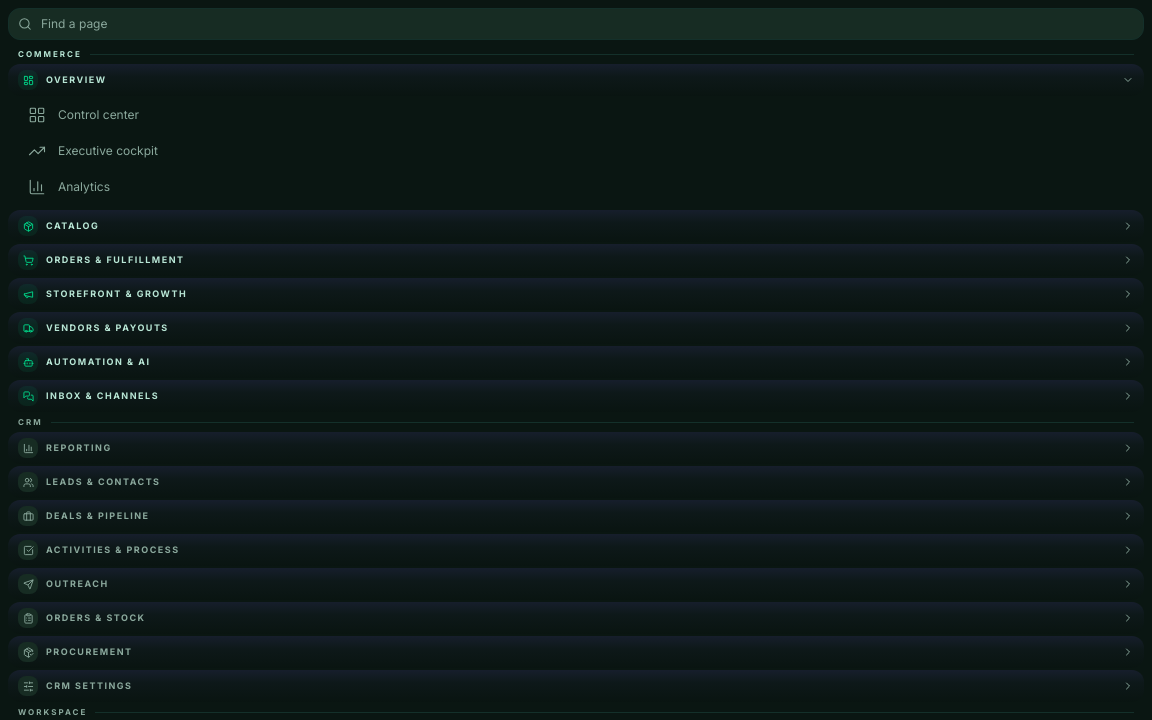
Test case: filtering the rail › says so when nothing matches, rather than showing an empty rail
The width and height of the screenshot is (1152, 720).
Type "zzzz" into the search field named "Filter navigation" at (576, 24), box [8,8,1144,40]
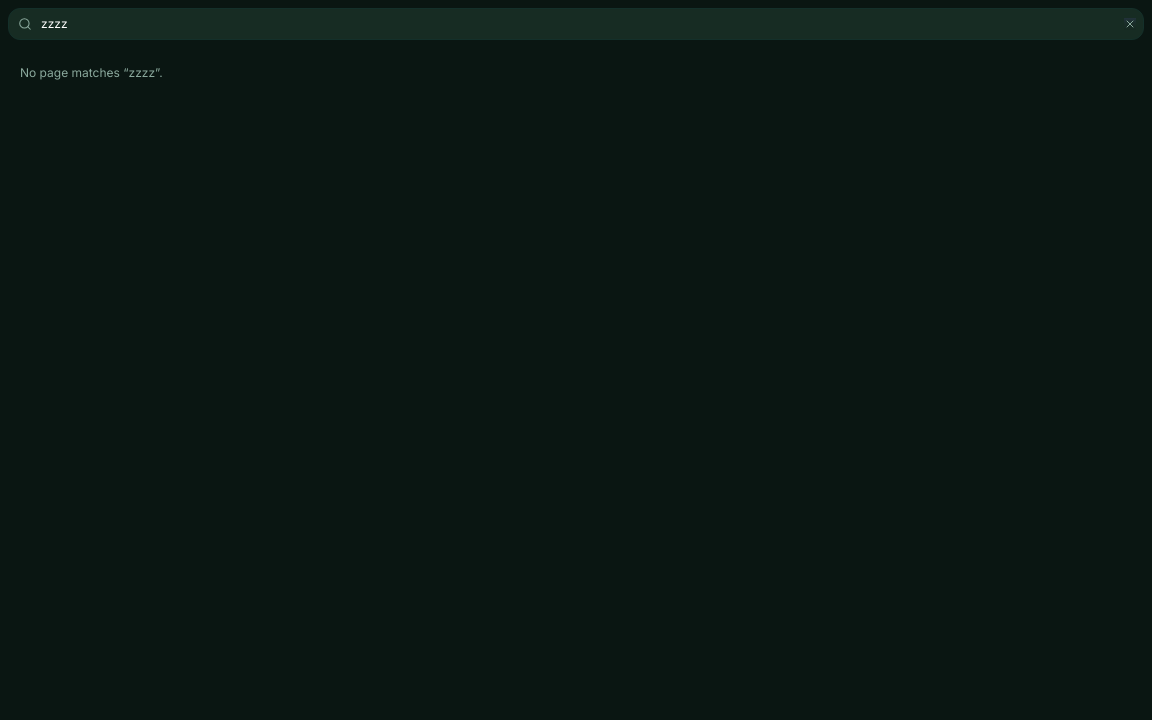
Check: the text "No page matches “zzzz”." is shown, box [20,65,163,80]
